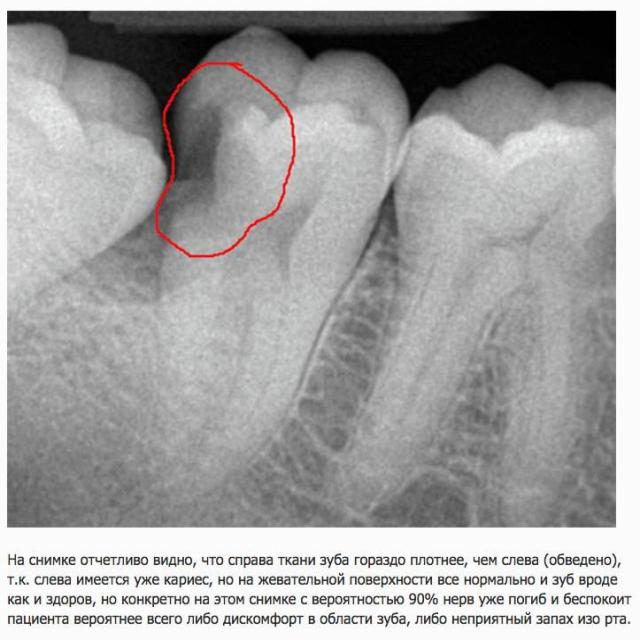Caries: (172, 32, 405, 428)
